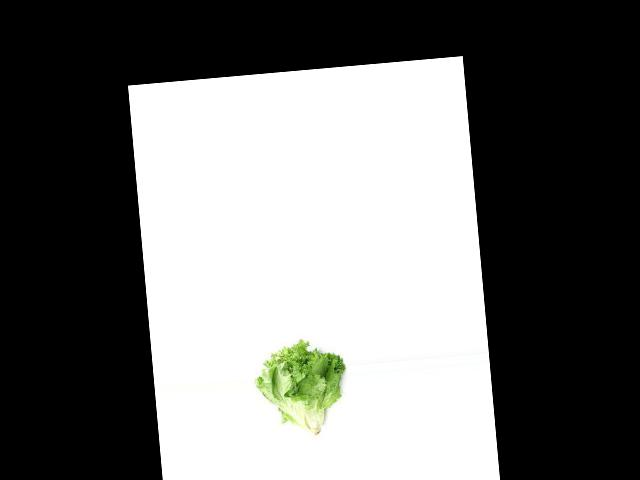lettuce: (247, 335, 348, 450)
